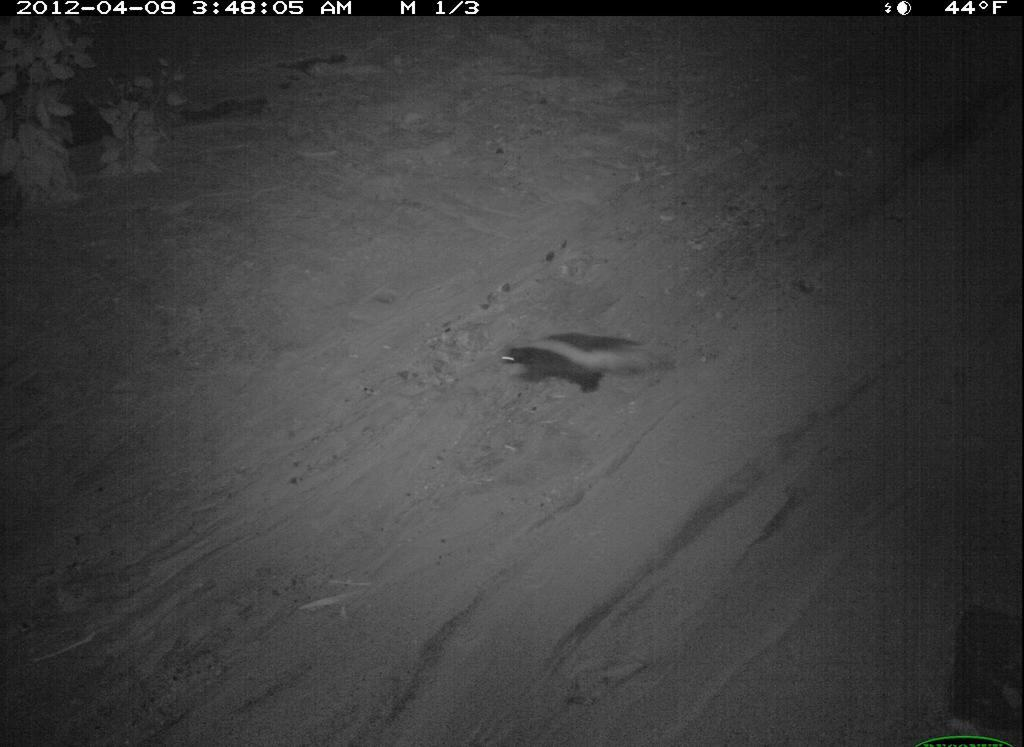skunk: (999, 648, 1024, 747)
